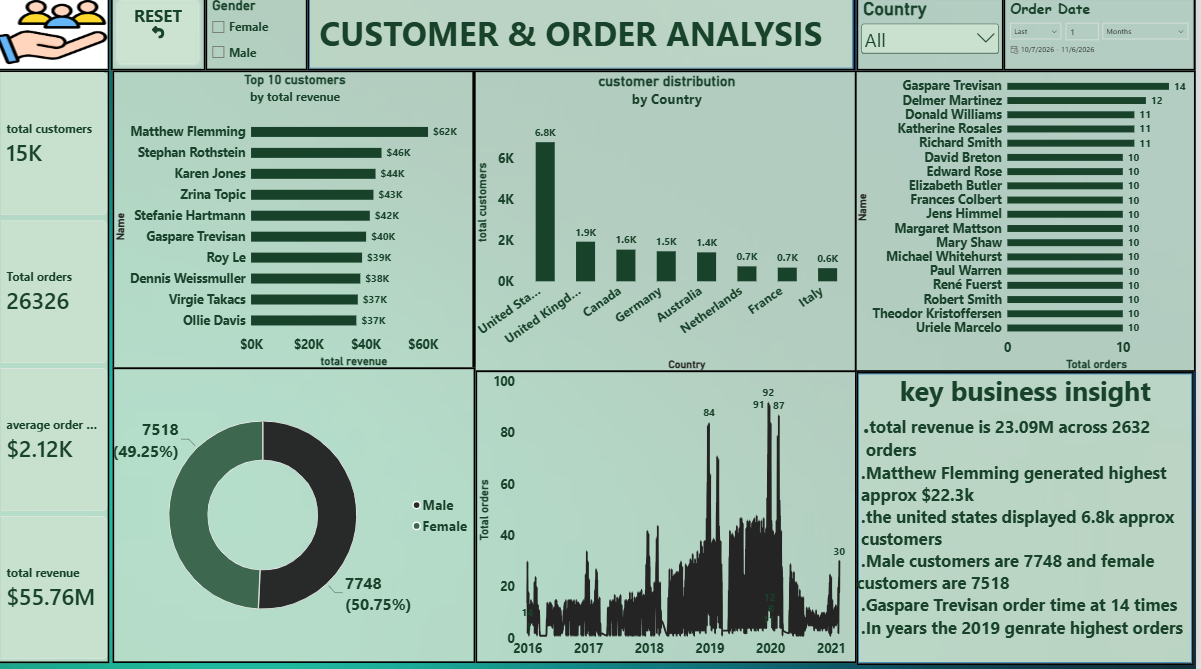

The page's visual inventory and layout, read from the dashboard file:
{"tool":"powerbi","page":{"name":"customers","canvas":[1922,1083],"ordinal":1},"visuals":[{"type":"shape","box":[1380.5,607.7,538,467],"z":0},{"type":"shape","box":[504.8,7.2,873.3,119.6],"z":1000},{"type":"textbox","box":[524,31.1,914,100.5],"z":2000},{"type":"cardVisual","fields":{"Data":["Customers.total customers","Customers.Total orders","Customers.average order value","Customers.total revenue"]},"box":[4.8,126.8,184.2,945.1],"z":3000},{"type":"slicer","title":"order date","fields":{"Values":["Sales.Order Date"]},"box":[1615,9.6,306.2,117.2],"z":4000},{"type":"slicer","fields":{"Values":["Stores.Country"]},"box":[1380.5,9.6,234.5,117.2],"z":5000},{"type":"clusteredBarChart","title":"Top 10 customers","fields":{"Category":["Customers.Name"],"Y":["Customers.Estimated revenue"]},"box":[193.8,126.8,576.6,476.1],"z":6000},{"type":"clusteredColumnChart","title":"customer distribution","fields":{"Category":["Customers.Country"],"Y":["Customers.total customers"]},"box":[770.4,126.8,610.1,480.9],"z":7000},{"type":"lineChart","fields":{"Category":["Sales.Order Date"],"Y":["Customers.Total orders"]},"box":[772.8,605.3,607.7,466.5],"z":8000},{"type":"donutChart","fields":{"Category":["Customers.Gender"],"Y":["Customers.total customers"]},"box":[193.8,600.5,579,471.3],"z":9000},{"type":"barChart","fields":{"Category":["Customers.Name"],"Y":["Customers.Total orders"]},"box":[1378.9,126.8,543.1,480.9],"z":10000},{"type":"actionButton","box":[191.4,4.8,150.7,122],"z":11000},{"type":"slicer","fields":{"Values":["Customers.Gender"]},"box":[342.1,7.2,162.7,119.6],"z":12000},{"type":"image","box":[4.8,4.8,184.2,122],"z":13000},{"type":"textbox","box":[1380.5,607.7,538.3,437.8],"z":14000}]}

Visuals, with their boxes in screenshot pixels (x1, y1, x2, y2), scaled from the page's 1922x1083 canvas onto the 1201x669 screenshot:
shape: bbox(863, 375, 1199, 664)
shape: bbox(315, 4, 861, 78)
textbox: bbox(327, 19, 899, 81)
cardVisual - Customers.total customers x Customers.Total orders: bbox(3, 78, 118, 662)
"order date" slicer: bbox(1009, 6, 1200, 78)
slicer - Stores.Country: bbox(863, 6, 1009, 78)
"Top 10 customers" clusteredBarChart: bbox(121, 78, 481, 372)
"customer distribution" clusteredColumnChart: bbox(481, 78, 863, 375)
lineChart - Sales.Order Date x Customers.Total orders: bbox(483, 374, 863, 662)
donutChart - Customers.Gender x Customers.total customers: bbox(121, 371, 483, 662)
barChart - Customers.Name x Customers.Total orders: bbox(862, 78, 1200, 375)
actionButton: bbox(120, 3, 214, 78)
slicer - Customers.Gender: bbox(214, 4, 315, 78)
image: bbox(3, 3, 118, 78)
textbox: bbox(863, 375, 1199, 646)
